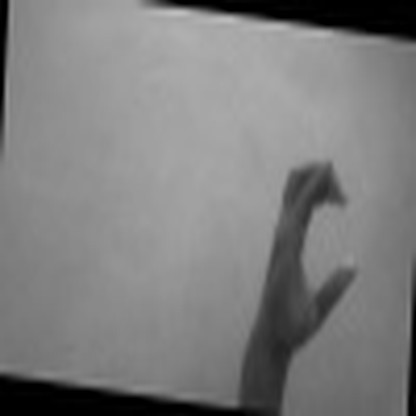c: (257, 148, 360, 349)
